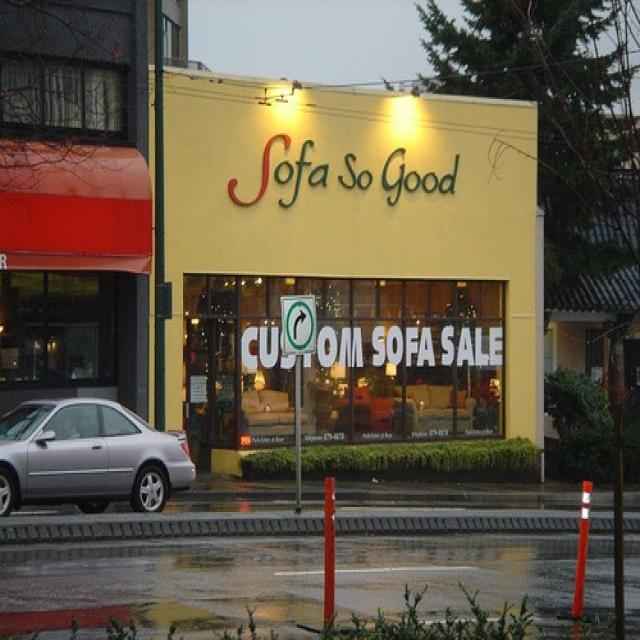car: (0, 401, 195, 512)
sofa: (393, 381, 477, 435), (240, 389, 308, 442)
